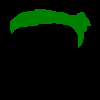mutande: (10, 9, 91, 48)
